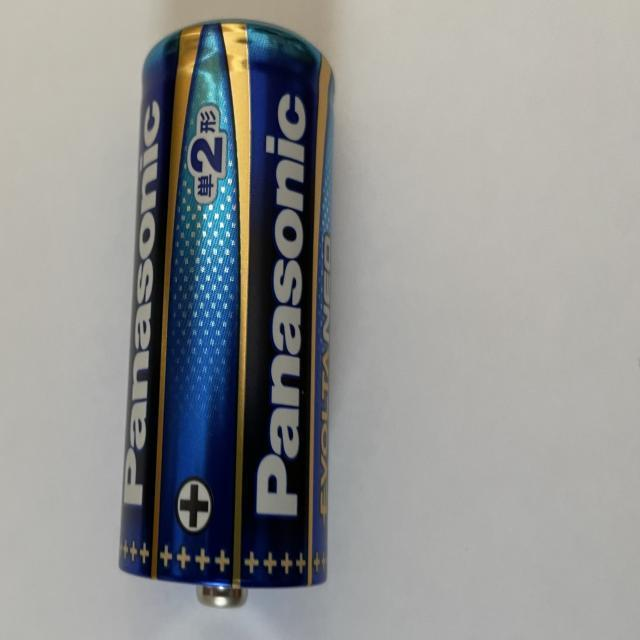Hazard: (117, 16, 336, 610)
